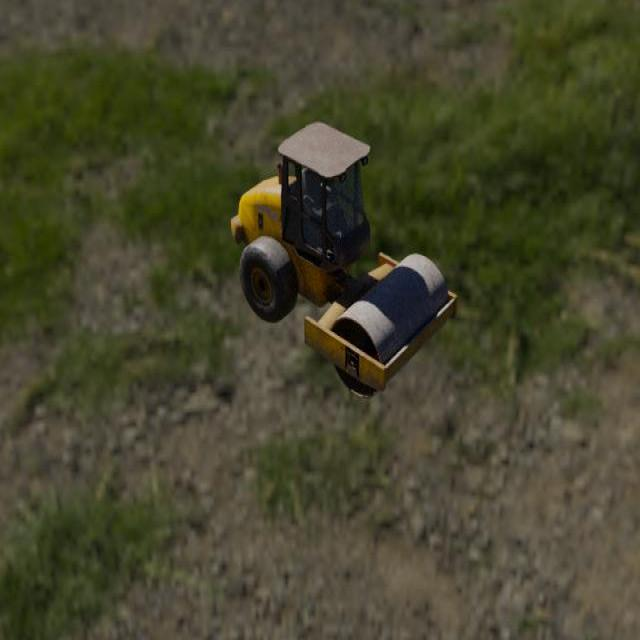Roller: (230, 121, 458, 399)
